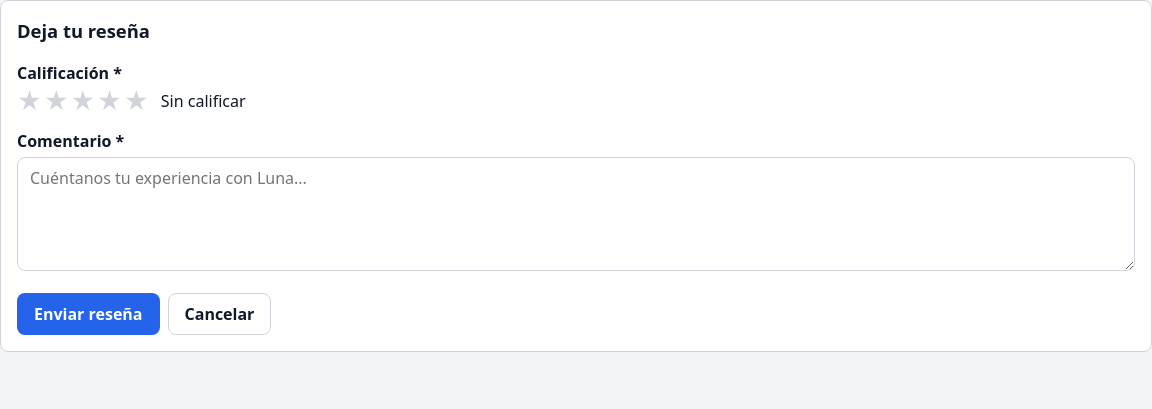
Test: ReviewForm › submits a valid review and clears the form
Click the button named "4 de 5": (110, 101) [97,89,122,113]
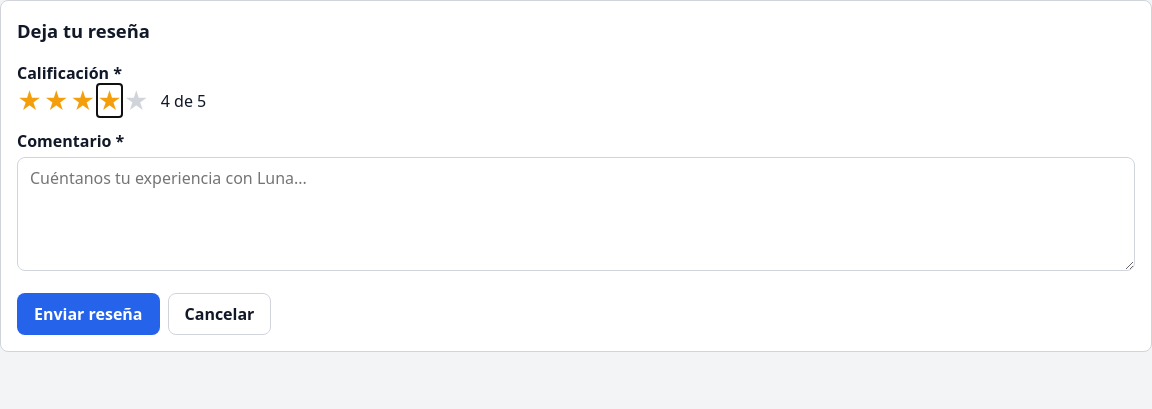
In the text box labelled "Comentario *": (576, 214) [17,157,1135,271], type "Muy buena compañera"
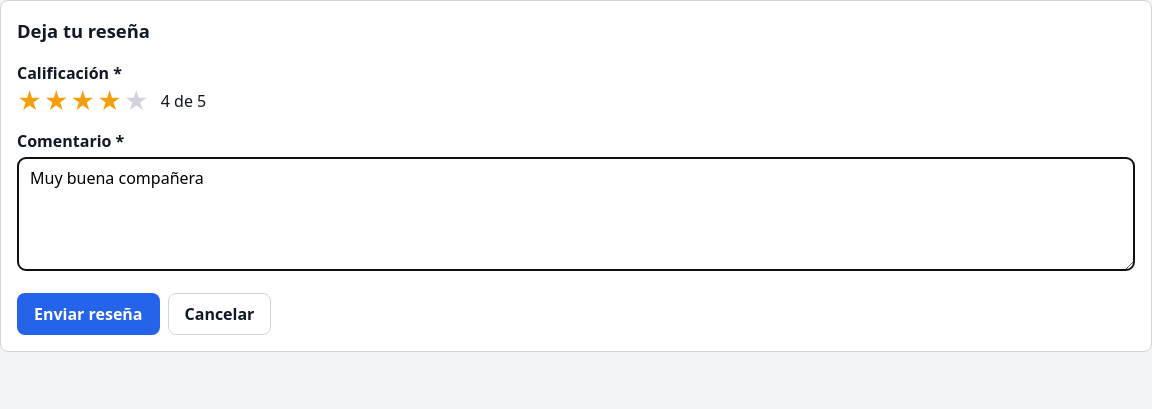
Click the button "Enviar reseña": (88, 314) [17,293,160,335]
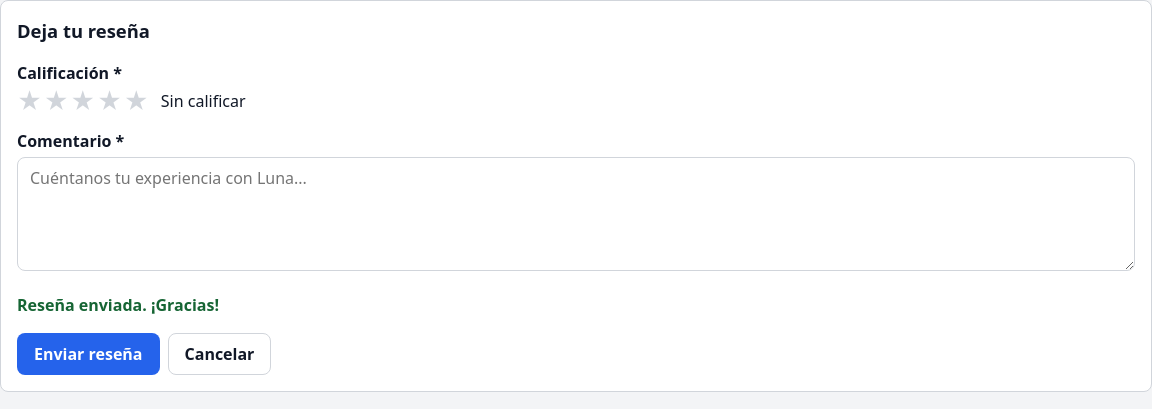
Expected: the text "Reseña enviada. ¡Gracias!" is shown, [17,294,219,316]
Expected: the text box labelled "Comentario *" is empty, [17,157,1135,271]
